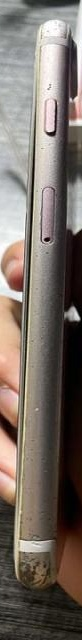scratch: (4, 534, 63, 594), (27, 15, 81, 57), (20, 393, 50, 415), (43, 75, 68, 101)
